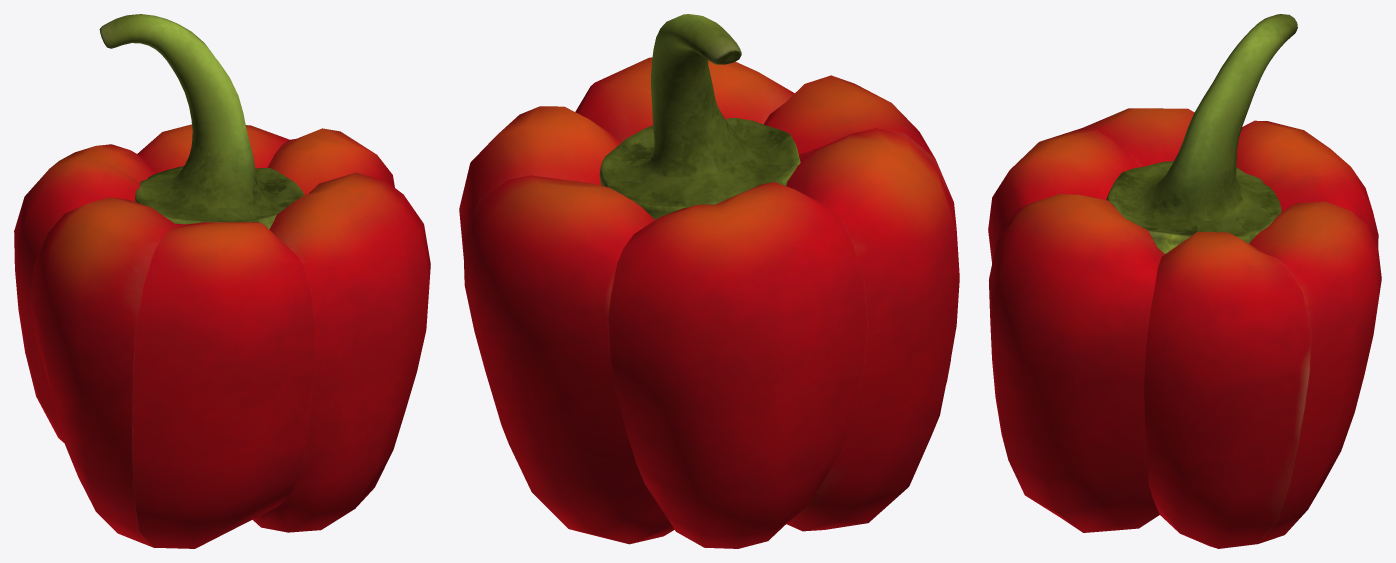
Rendered from pepper.glb.
3 views of the same model, side by side, from view 1: azimuth 30°, elevation 25°; view 2: azimuth 150°, elevation 25°; view 3: azimuth 270°, elevation 25° (orthographic). The views are drawn at different scales.
Parts seen in each view (by area): view 1: pepper; view 2: pepper; view 3: pepper.
Part boxes in pixels (bbox=[...]): pepper: bbox=[14, 14, 430, 548]; pepper: bbox=[459, 14, 959, 548]; pepper: bbox=[988, 14, 1381, 548].
Size of the model in its own units: 0.0349 by 0.043 by 0.0323.
1 material, 1 textured.
